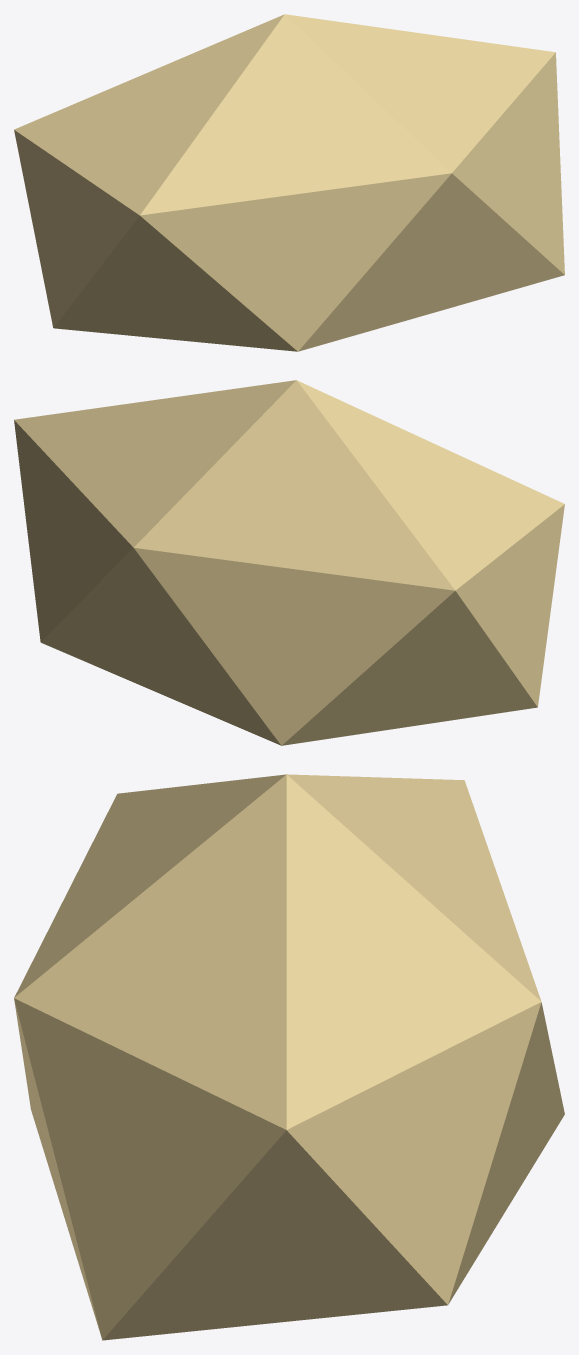
The model's file is item_019_wild_grain_s.glb.
3 renders of one model, top to bottom at view 1: azimuth 30°, elevation 25°; view 2: azimuth 150°, elevation 25°; view 3: azimuth 270°, elevation 25°, orthographic. The views are drawn at different scales.
Parts seen in each view (by area): view 1: item_019_wild_grain_s; view 2: item_019_wild_grain_s; view 3: item_019_wild_grain_s.
Part boxes in pixels (bbox=[...]): item_019_wild_grain_s: bbox=[14, 14, 564, 351]; item_019_wild_grain_s: bbox=[14, 380, 564, 745]; item_019_wild_grain_s: bbox=[14, 774, 564, 1340].
Size of the model in its own units: 0.3216 by 0.2043 by 0.203.
